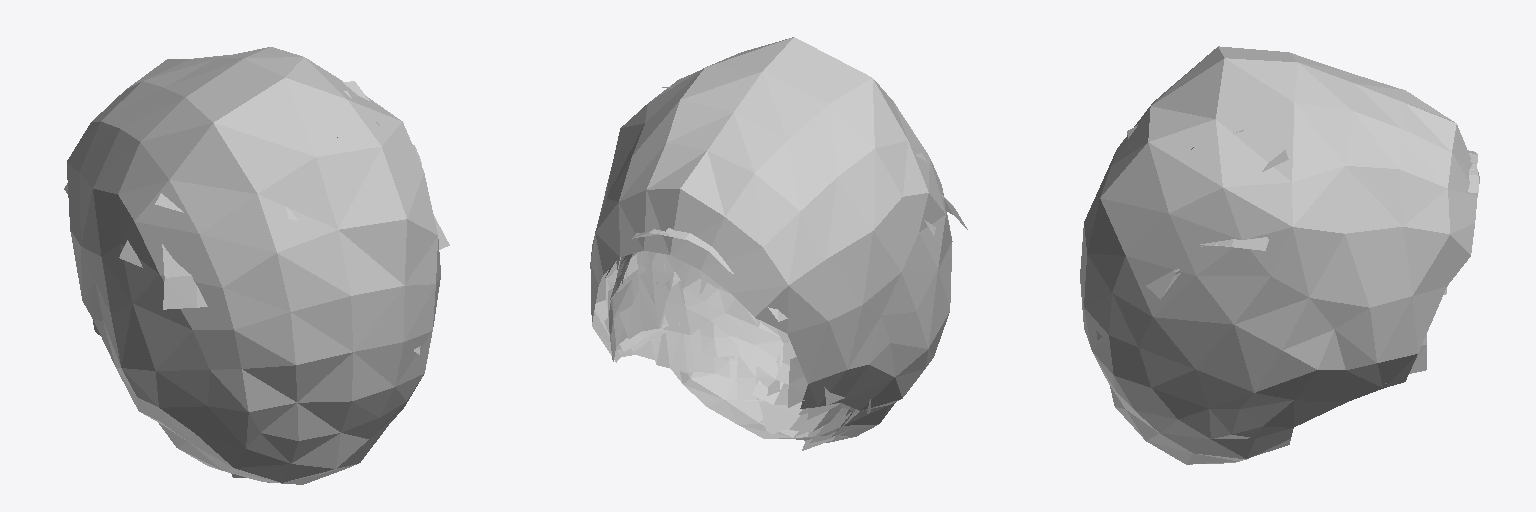
The model's file is hair_003_u.obj.
3 views of the same model, side by side, from view 1: azimuth 30°, elevation 25°; view 2: azimuth 150°, elevation 25°; view 3: azimuth 270°, elevation 25° (orthographic).
Parts seen in each view (by area): view 1: hair_003_u_high_3, hair_003_u_high_1; view 2: hair_003_u_high_3, hair_003_u_high_1, hair_003_u_med_1; view 3: hair_003_u_high_3, hair_003_u_high_1.
Boxes of the visible parts, x1,y1,x2,y2 form: hair_003_u_high_3: [67, 47, 440, 484]; hair_003_u_high_1: [119, 81, 449, 477]; hair_003_u_high_3: [590, 37, 952, 442]; hair_003_u_high_1: [607, 86, 967, 436]; hair_003_u_med_1: [611, 228, 870, 450]; hair_003_u_high_3: [1080, 46, 1479, 464]; hair_003_u_high_1: [1096, 125, 1478, 373].
Bounding box in the file's own units: 0.2129 × 0.2661 × 0.2432.